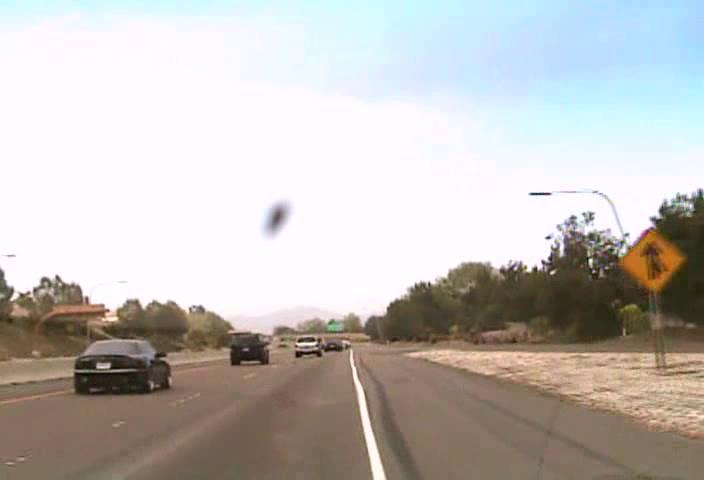merge: (618, 226, 688, 293)
